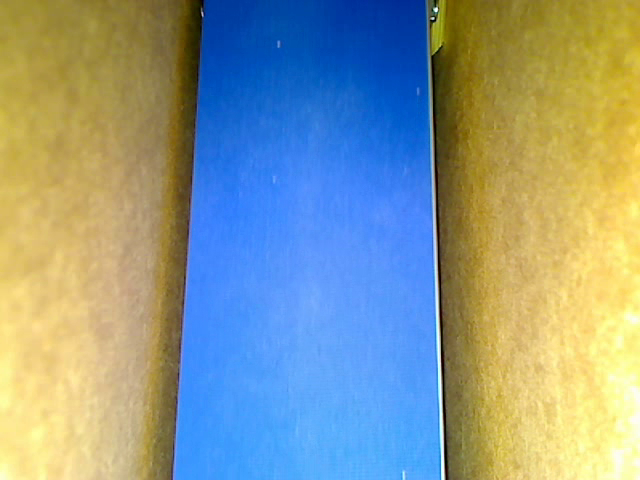penne: (426, 1, 448, 61)
